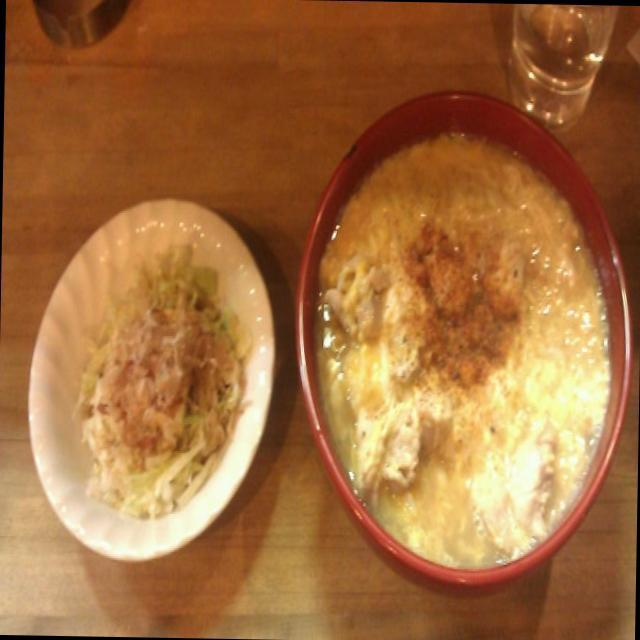Green Salad: (82, 256, 244, 514)
